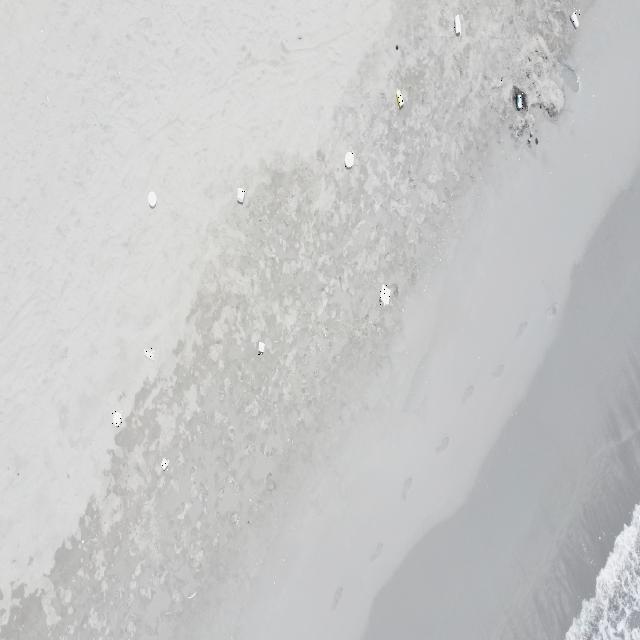take-away-containers: (379, 284, 390, 306), (112, 410, 122, 428), (236, 188, 246, 203), (345, 152, 354, 168), (148, 191, 156, 207), (160, 457, 169, 471), (258, 341, 265, 355)
takeaway-cup: (143, 347, 155, 363), (570, 10, 580, 29), (454, 13, 461, 36), (396, 89, 404, 108), (490, 76, 502, 88), (516, 93, 523, 109)
